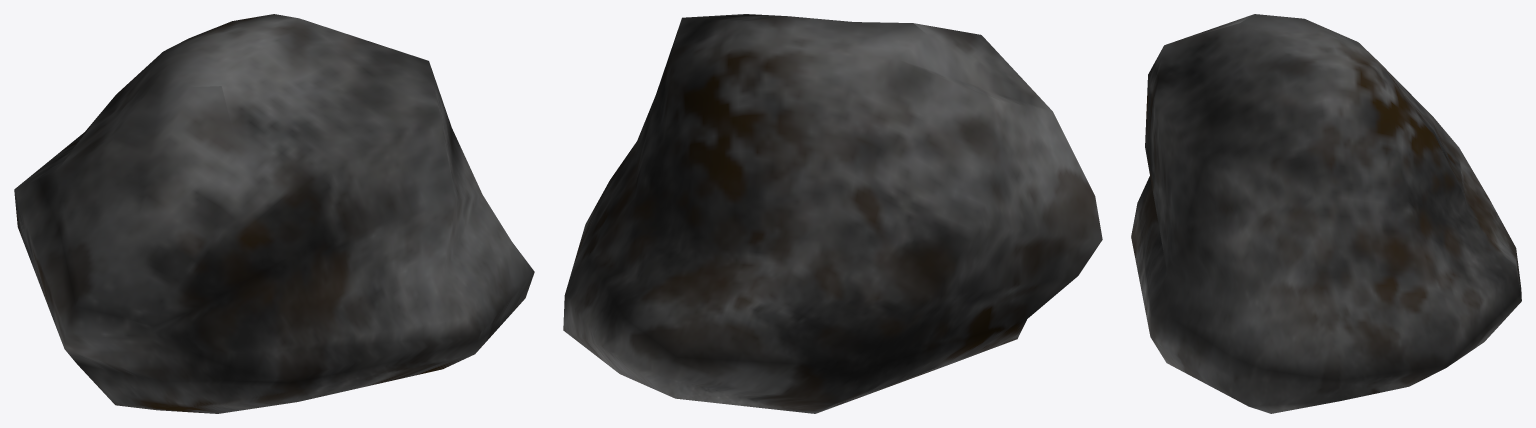
File: Obstacles_Asteroid_002.fbx
The picture shows the model from 3 angles, left to right: view 1: azimuth 30°, elevation 25°; view 2: azimuth 150°, elevation 25°; view 3: azimuth 270°, elevation 25°; orthographic projection. The views are drawn at different scales.
Visible parts, largest first — view 1: Asteroid_2; view 2: Asteroid_2; view 3: Asteroid_2.
Part boxes in pixels (x1,y1,x2,y2): Asteroid_2: [14, 14, 534, 413]; Asteroid_2: [563, 14, 1102, 413]; Asteroid_2: [1131, 14, 1521, 413].
Size of the model in its own units: 1.66 by 1.16 by 1.34.
